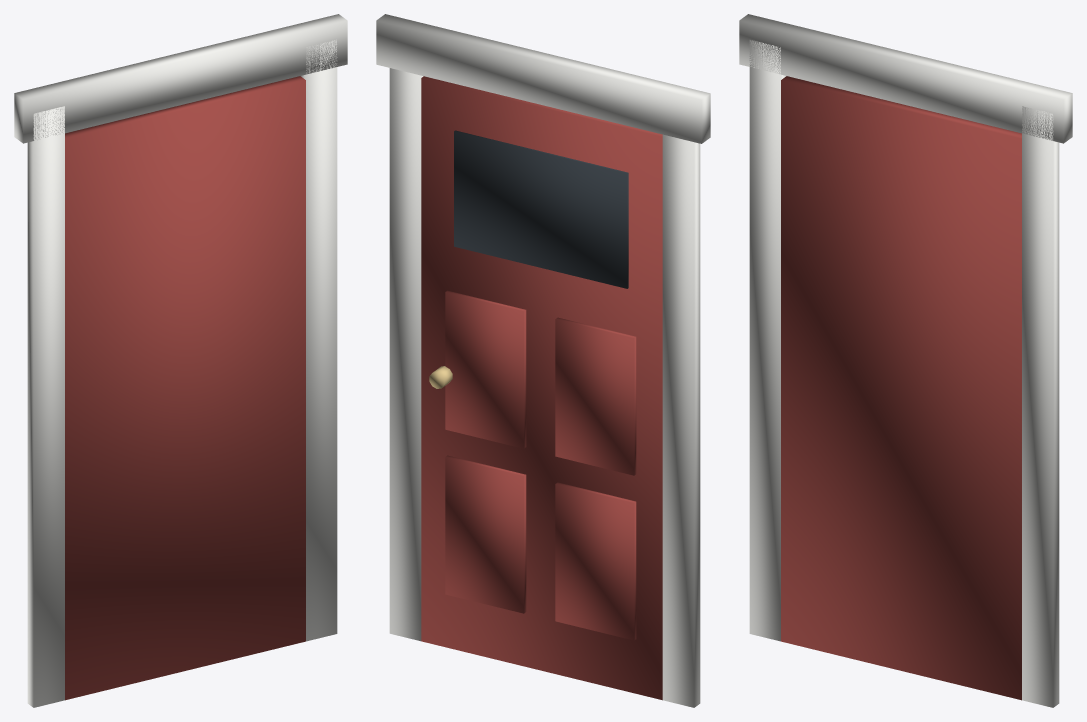
Rendered from hp_door_r.glb.
3 views of the same model, side by side, from view 1: azimuth 30°, elevation 25°; view 2: azimuth 150°, elevation 25°; view 3: azimuth 330°, elevation 25° (orthographic).
Parts seen in each view (by area): view 1: hp_door_r; view 2: hp_door_r; view 3: hp_door_r.
Boxes of the visible parts, x1,y1,x2,y2 form: hp_door_r: (14,14,347,707); hp_door_r: (376,14,710,707); hp_door_r: (739,14,1072,707).
Size of the model in its own units: 1.24 by 2.23 by 0.11.
